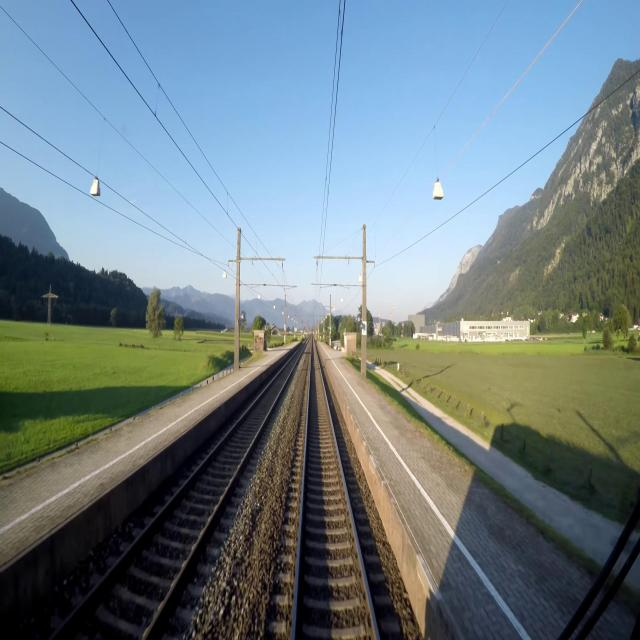rail-track: (54, 350, 300, 639), (296, 345, 376, 639)
